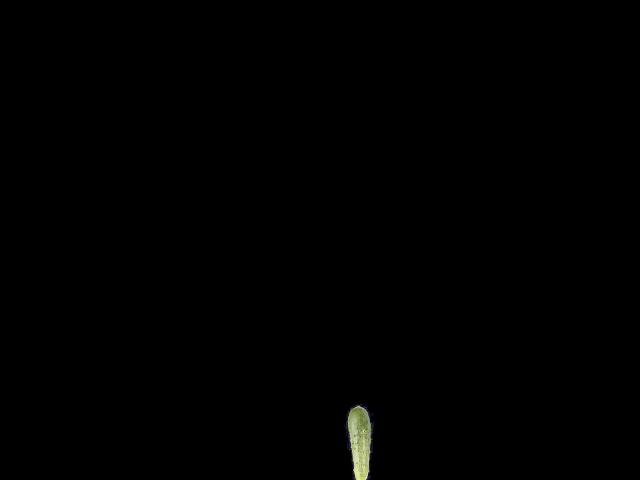cucumber: (347, 404, 374, 480)
